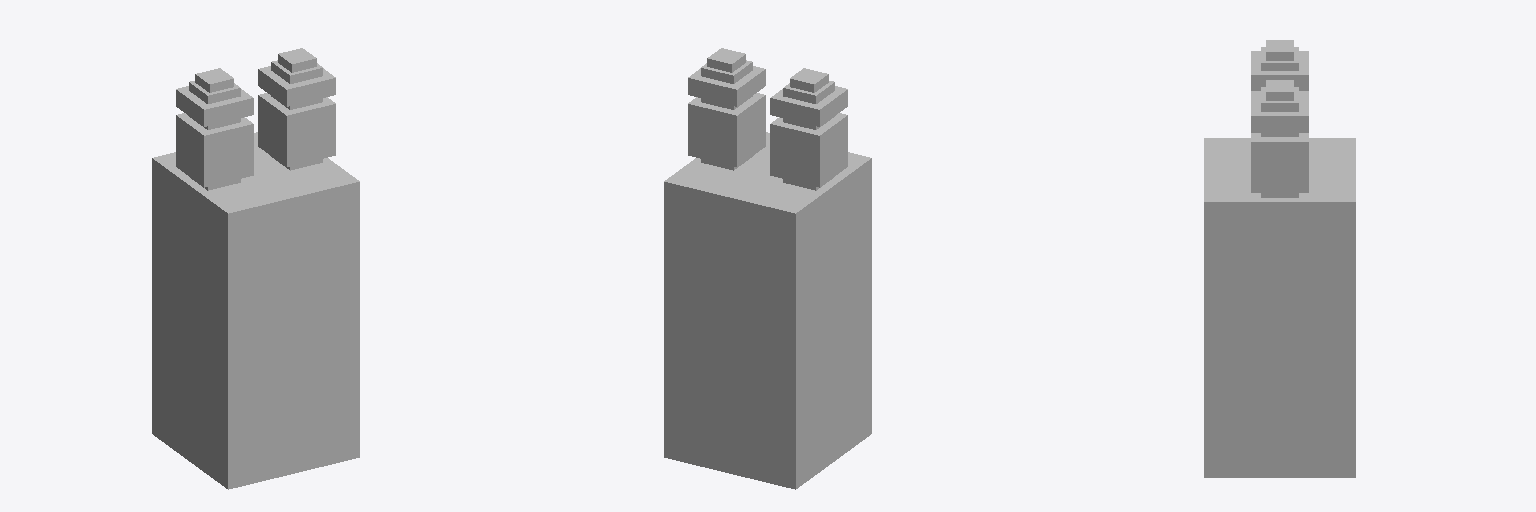
File: transformerHV.obj
The picture shows the model from 3 angles: view 1: azimuth 30°, elevation 25°; view 2: azimuth 150°, elevation 25°; view 3: azimuth 270°, elevation 25°; orthographic projection.
Parts seen in each view (by area): view 1: Base, ConnectorHV_Left, ConnectorHV_Right, Connector_Right, Connector_Left; view 2: Base, ConnectorHV_Left, ConnectorHV_Right, Connector_Right, Connector_Left; view 3: Base, ConnectorHV_Right, ConnectorHV_Left, Connector_Right.
Part boxes in pixels (x1,y1,x2,y2): Base: (152, 132, 359, 489); ConnectorHV_Left: (176, 68, 253, 190); ConnectorHV_Right: (258, 48, 335, 170); Connector_Right: (258, 105, 335, 169); Connector_Left: (176, 133, 253, 189); Base: (664, 132, 871, 489); ConnectorHV_Left: (770, 68, 847, 190); ConnectorHV_Right: (688, 48, 765, 170); Connector_Right: (688, 105, 765, 169); Connector_Left: (770, 129, 847, 190); Base: (1204, 138, 1355, 477); ConnectorHV_Right: (1251, 80, 1308, 197); ConnectorHV_Left: (1251, 40, 1308, 90); Connector_Right: (1251, 150, 1308, 197).
Size of the model in its own units: 1 by 2.75 by 1.